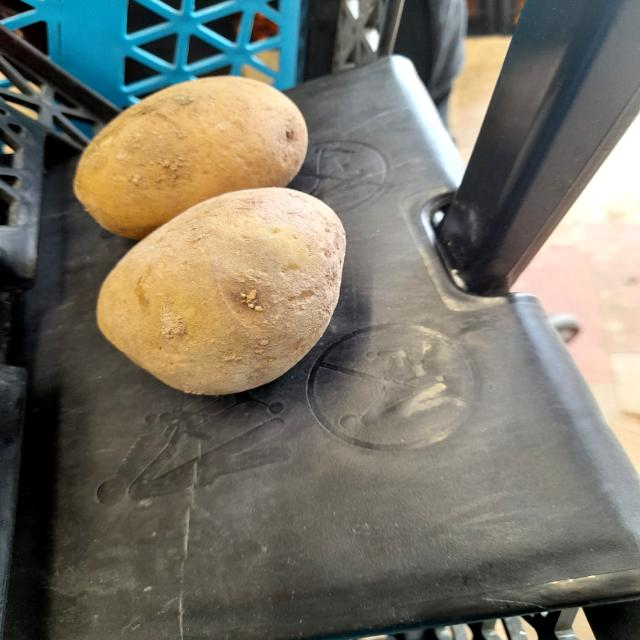potato: (90, 185, 367, 404), (57, 69, 331, 237)
